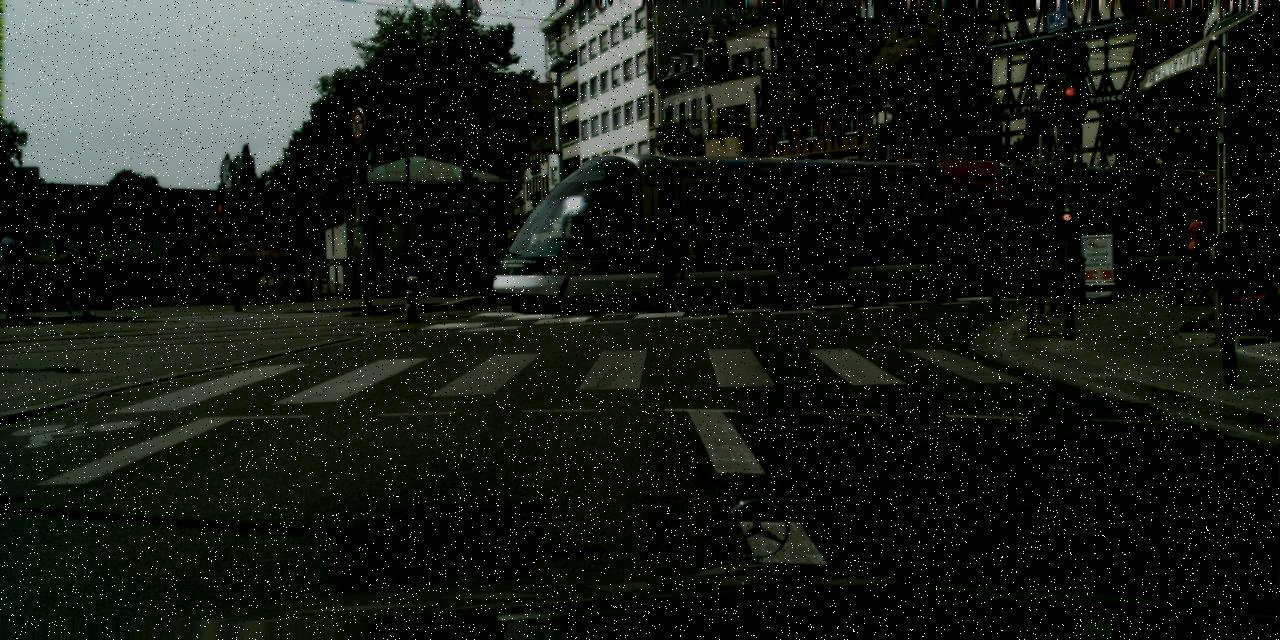ped: (1179, 203, 1219, 302), (0, 223, 32, 316), (65, 237, 96, 314)
